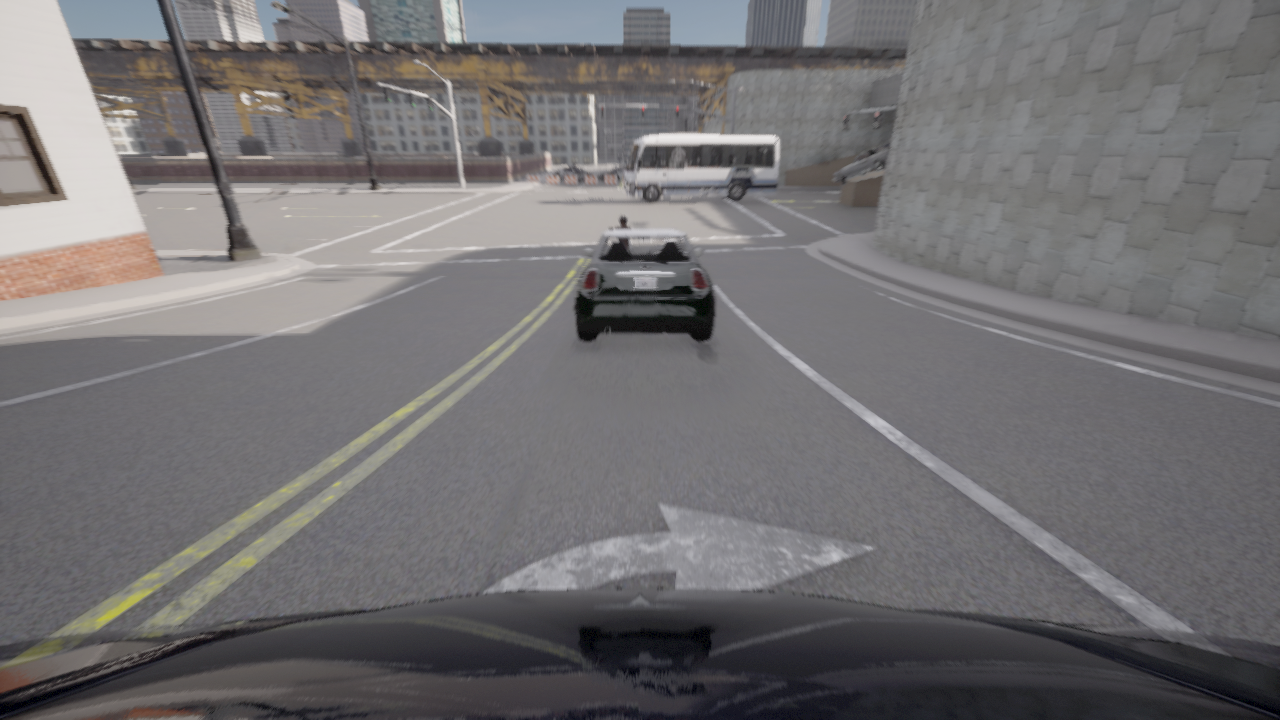cyclist: (0, 588, 1279, 719), (574, 229, 714, 340), (619, 134, 780, 203), (833, 143, 889, 184), (554, 166, 593, 182), (598, 167, 625, 181), (609, 228, 612, 229)
